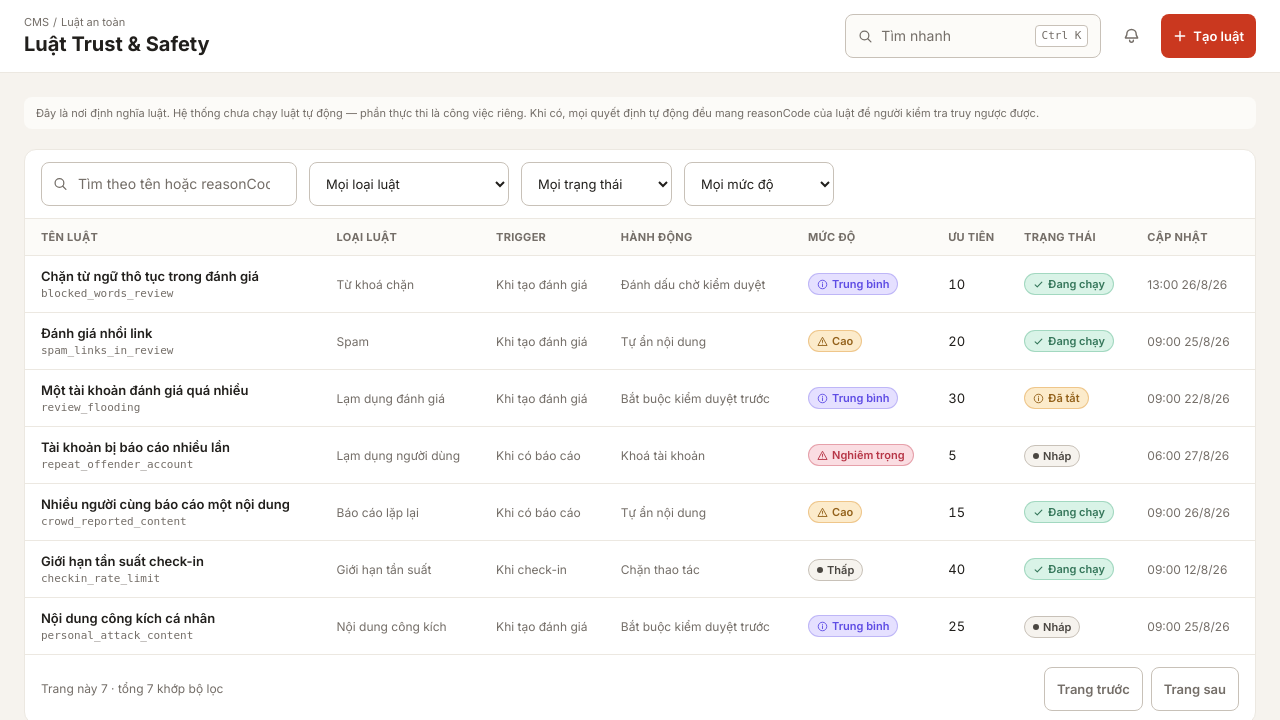
Test case: safety rule list (CMS-028) › pushes the status filter to the server
This screenshot has width=1280, height=720.
Check: the table is shown, box [25, 219, 1255, 654]
Select "Đang chạy" in the dropdown named "Trạng thái" at [596, 184], box [521, 162, 672, 206]
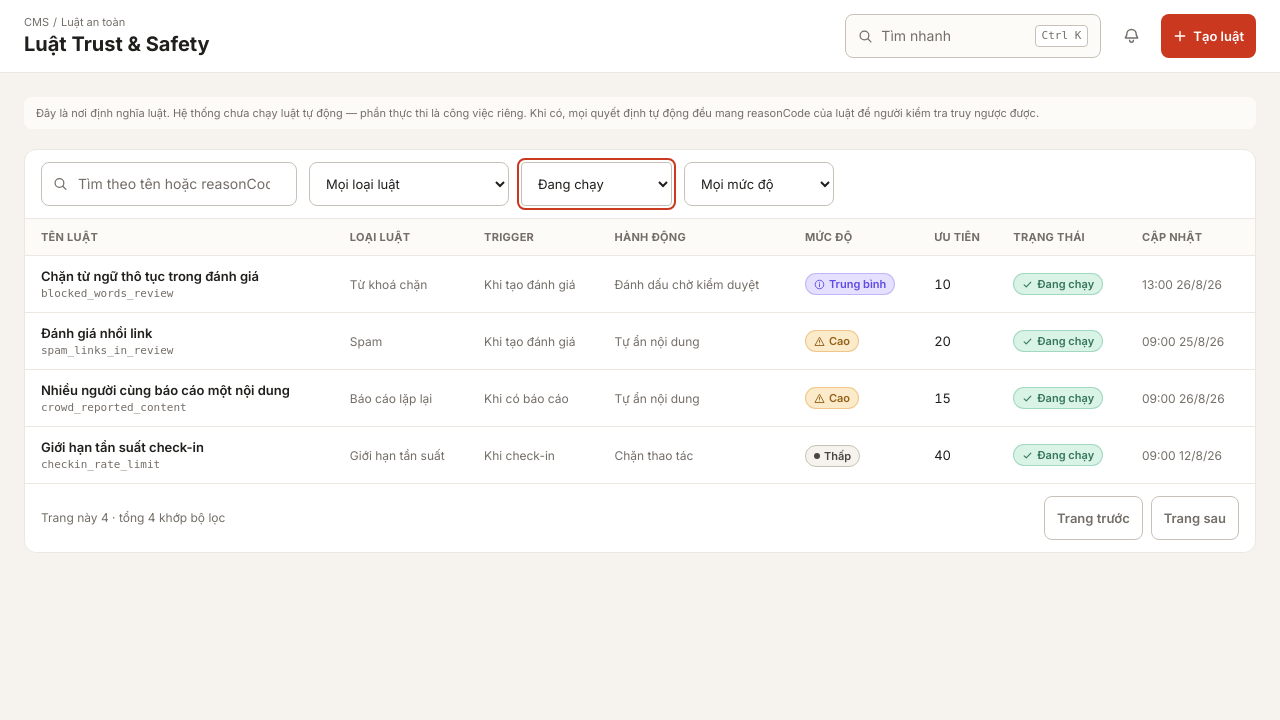
Check: the text "Trang này 4 · tổng 4 khớp bộ lọc" is shown, box [41, 510, 225, 526]
